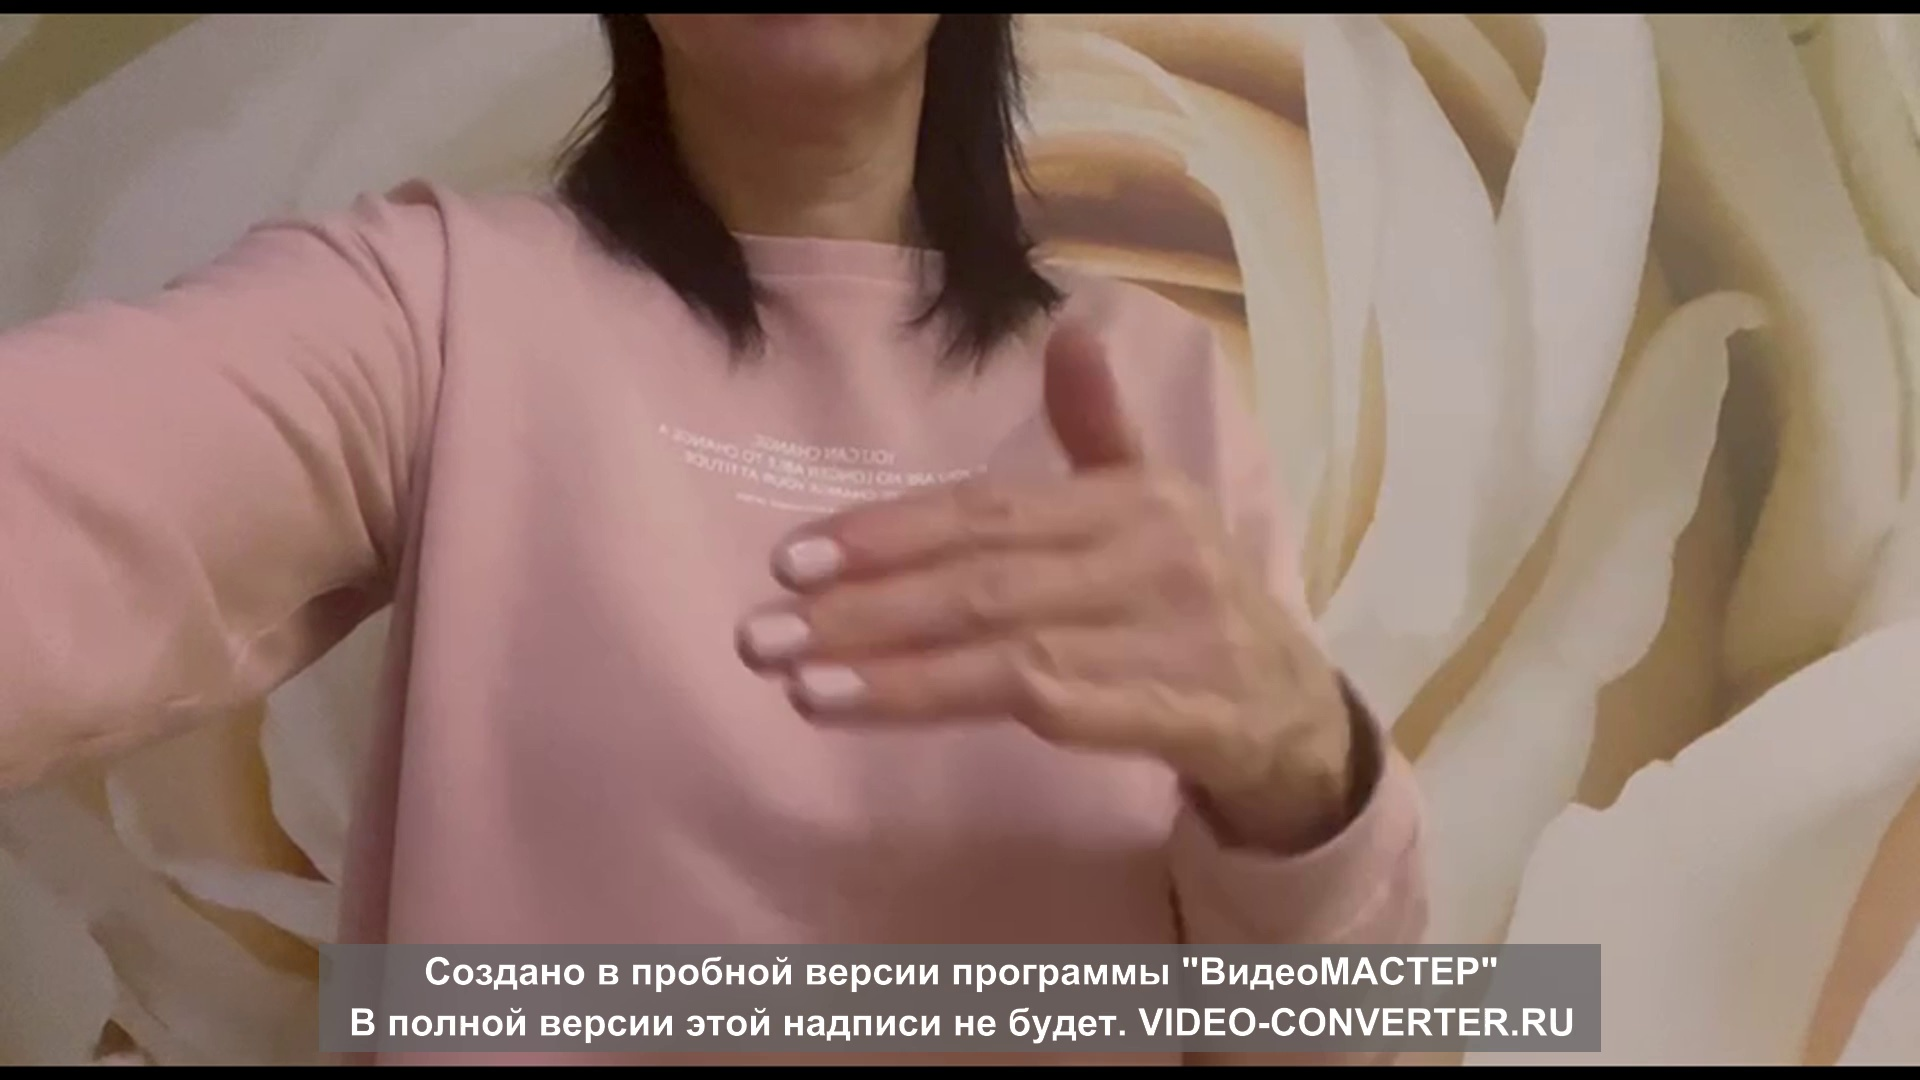Кисть: (736, 326, 1316, 795)
